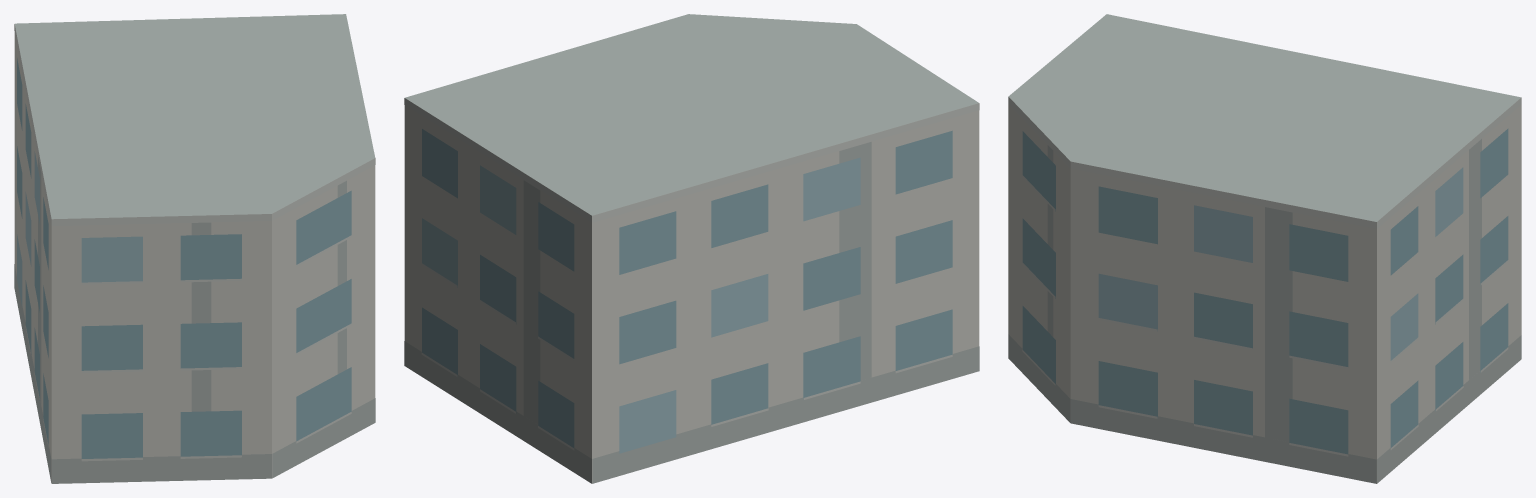
Rendered from residential-9cfff4c6-4b04-447c-b140-7898cf4cea6d.glb.
The picture shows the model from 3 angles, left to right: view 1: azimuth 30°, elevation 25°; view 2: azimuth 150°, elevation 25°; view 3: azimuth 270°, elevation 25°; orthographic projection. The views are drawn at different scales.
Visible parts, largest first — view 1: residential-9cfff4c6-4b04-447c-b140-7898cf4cea6d.tmp; view 2: residential-9cfff4c6-4b04-447c-b140-7898cf4cea6d.tmp; view 3: residential-9cfff4c6-4b04-447c-b140-7898cf4cea6d.tmp.
Part boxes in pixels (x1=…): residential-9cfff4c6-4b04-447c-b140-7898cf4cea6d.tmp: x1=14, y1=14, x2=375, y2=483; residential-9cfff4c6-4b04-447c-b140-7898cf4cea6d.tmp: x1=404, y1=14, x2=979, y2=483; residential-9cfff4c6-4b04-447c-b140-7898cf4cea6d.tmp: x1=1008, y1=14, x2=1521, y2=483.
Bounding box in the file's own units: 15.35 × 9 × 16.
